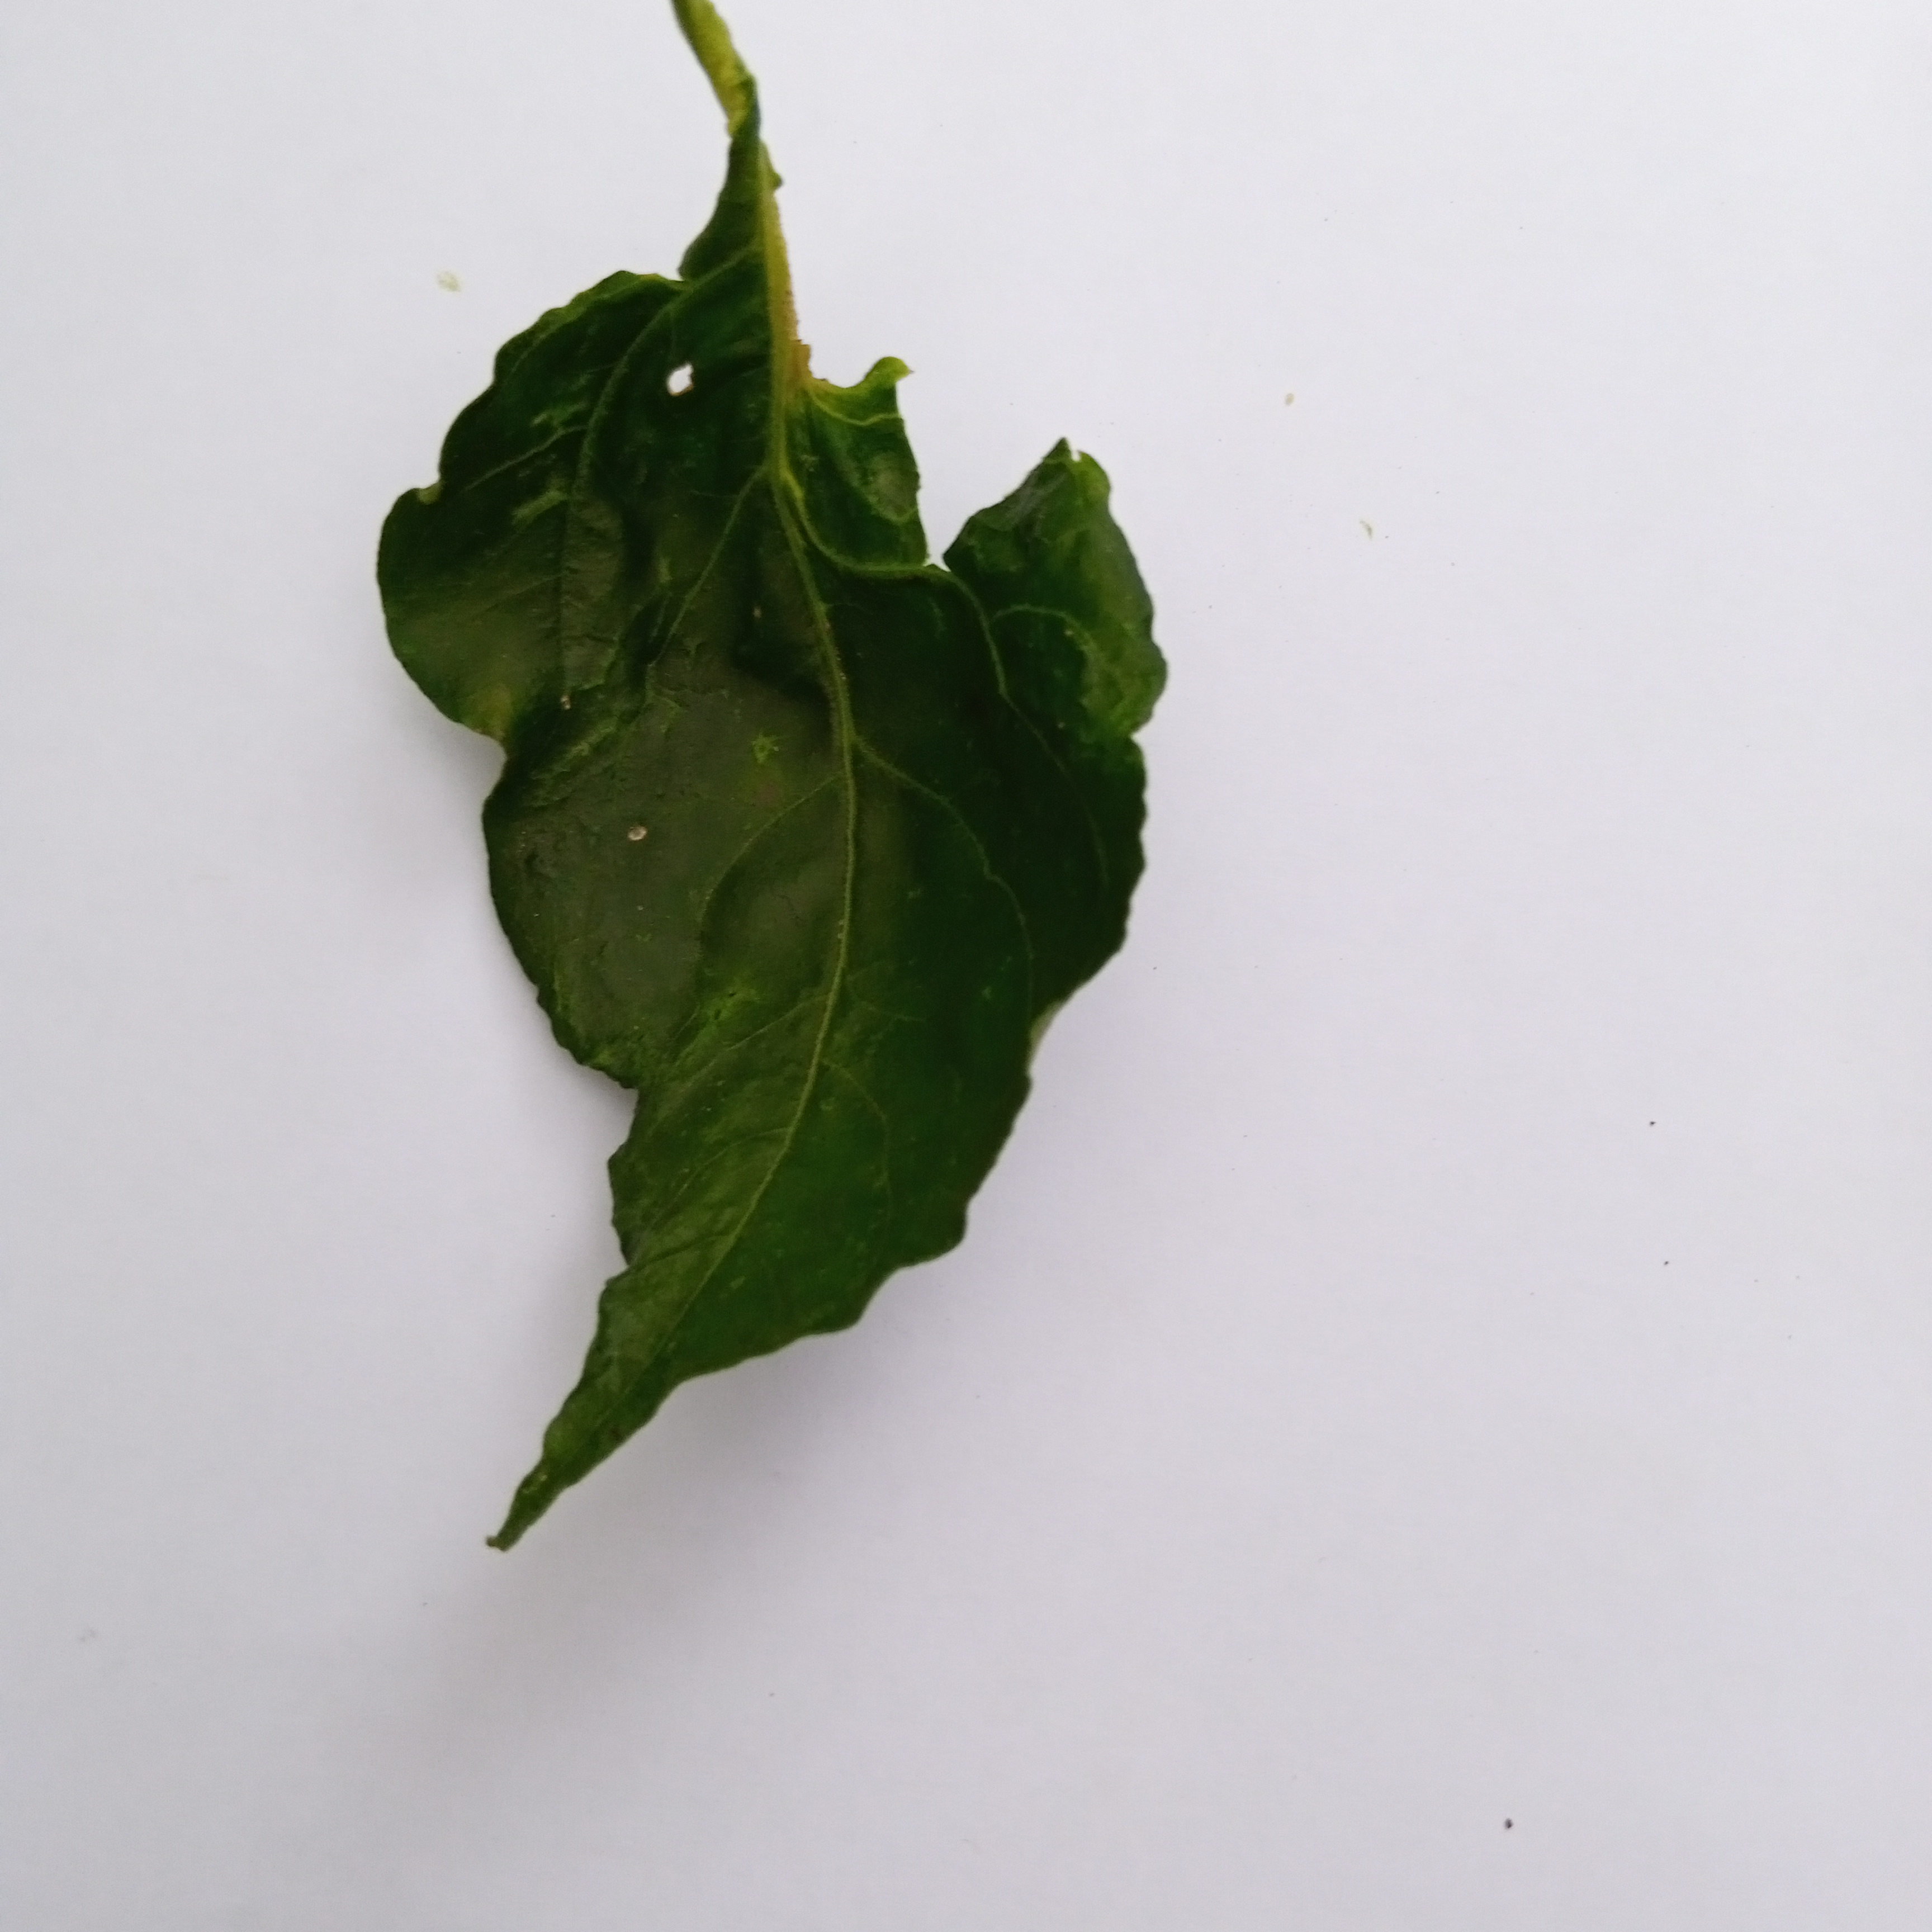Leaf: (292, 136, 1207, 1615)
